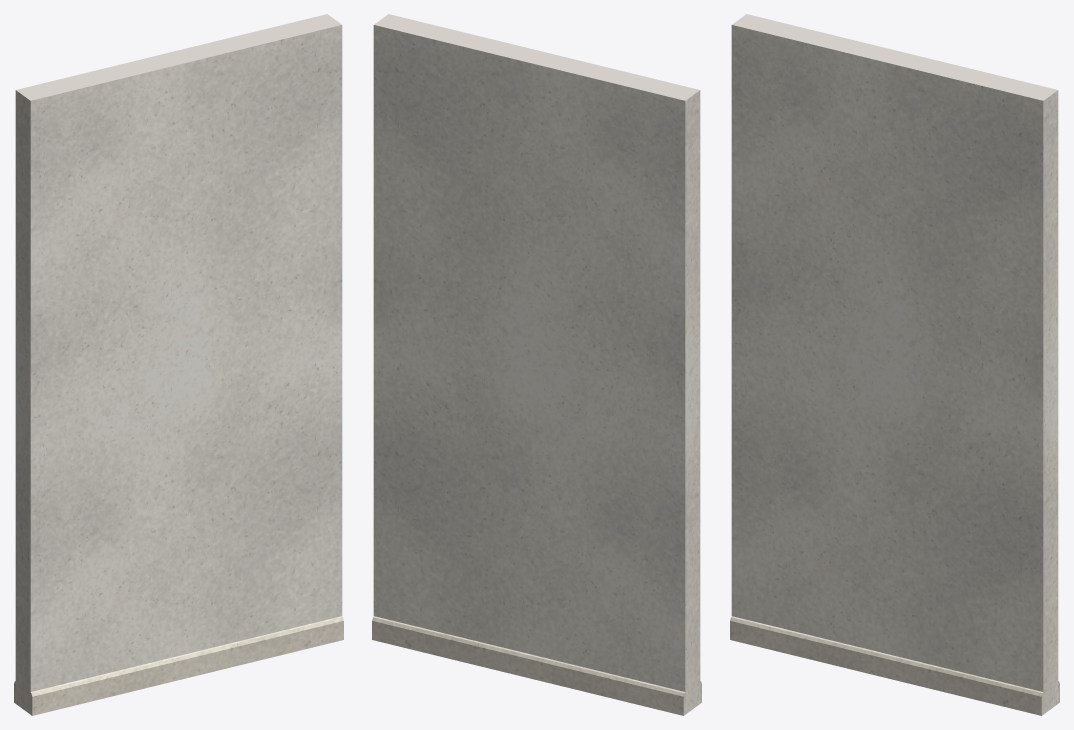
Rendered from iw1_end_plain.glb.
3 views of the same model, side by side, from view 1: azimuth 30°, elevation 25°; view 2: azimuth 150°, elevation 25°; view 3: azimuth 330°, elevation 25° (orthographic).
Visible parts, largest first — view 1: iw1_end_plain_plaster, iw1_end_plain_trim; view 2: iw1_end_plain_plaster, iw1_end_plain_trim; view 3: iw1_end_plain_plaster, iw1_end_plain_trim.
Boxes of the visible parts, x1,y1,x2,y2 form: iw1_end_plain_plaster: (15,14,342,714); iw1_end_plain_trim: (14,616,343,715); iw1_end_plain_plaster: (373,14,700,714); iw1_end_plain_trim: (372,616,701,715); iw1_end_plain_plaster: (731,14,1058,714); iw1_end_plain_trim: (730,616,1059,715).
Size of the model in its own units: 1.7 by 3.2 by 0.172.
Materials: 2 (2 with a texture image).
